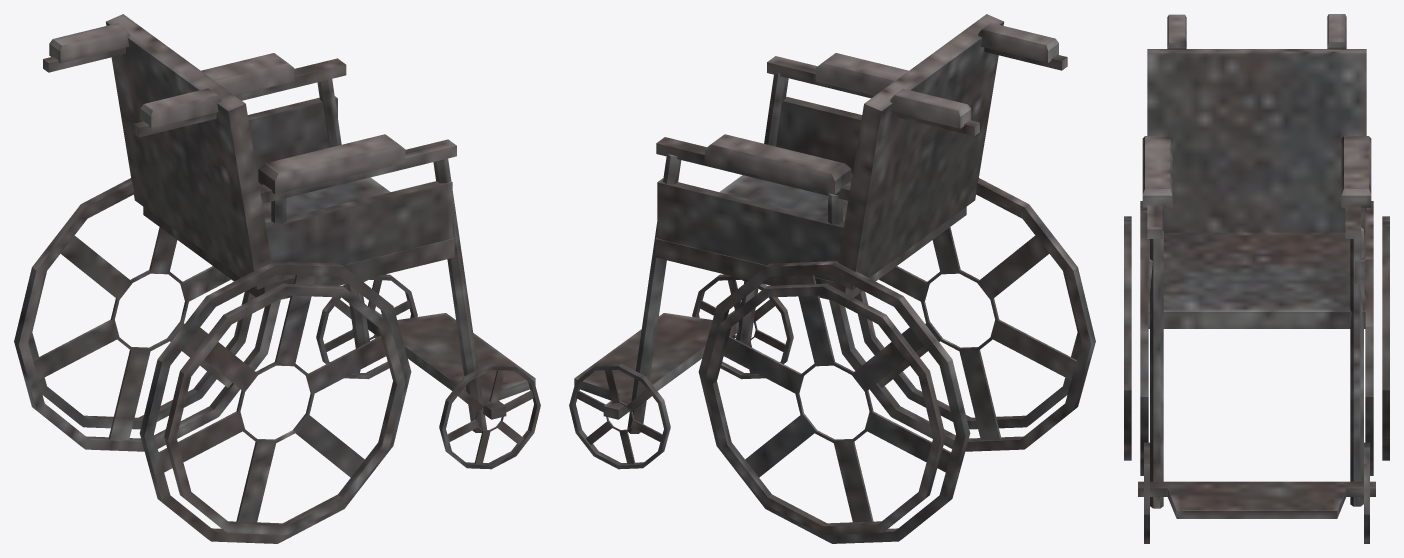
The model's file is wheelchair.glb.
3 renders of one model, left to right at view 1: azimuth 30°, elevation 25°; view 2: azimuth 150°, elevation 25°; view 3: azimuth 270°, elevation 25°, orthographic. The views are drawn at different scales.
Visible parts, largest first — view 1: Wheelchair; view 2: Wheelchair; view 3: Wheelchair.
Part boxes in pixels (left/top/right/bottom): Wheelchair: left=14, top=14, right=540, bottom=543; Wheelchair: left=569, top=14, right=1095, bottom=543; Wheelchair: left=1124, top=14, right=1389, bottom=543.
Size of the model in its own units: 1.44 by 1.49 by 0.8963.
Materials: 1 (1 with a texture image).
